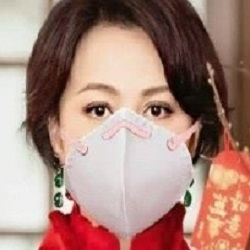mask: (47, 97, 195, 238)
